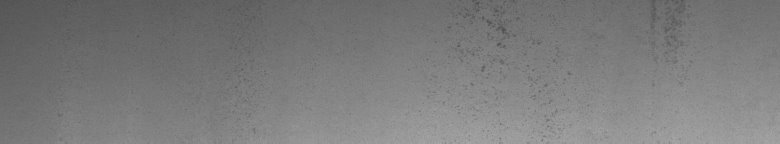ib: (457, 4, 573, 127)
